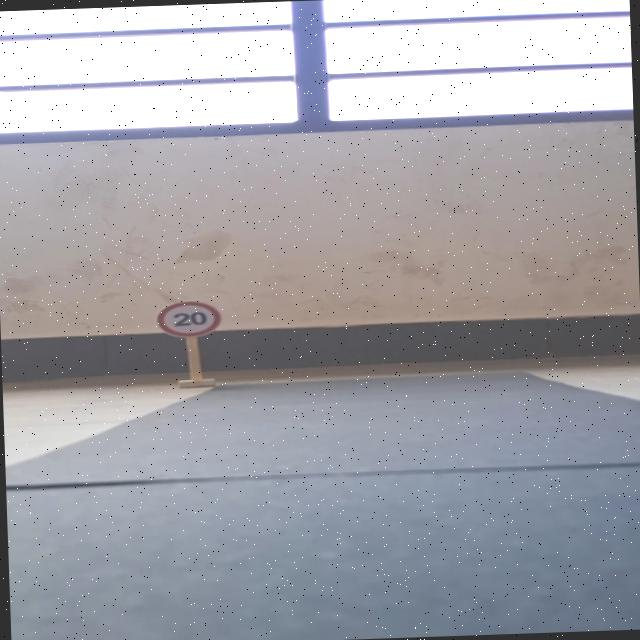Speed20: (149, 293, 228, 341)
